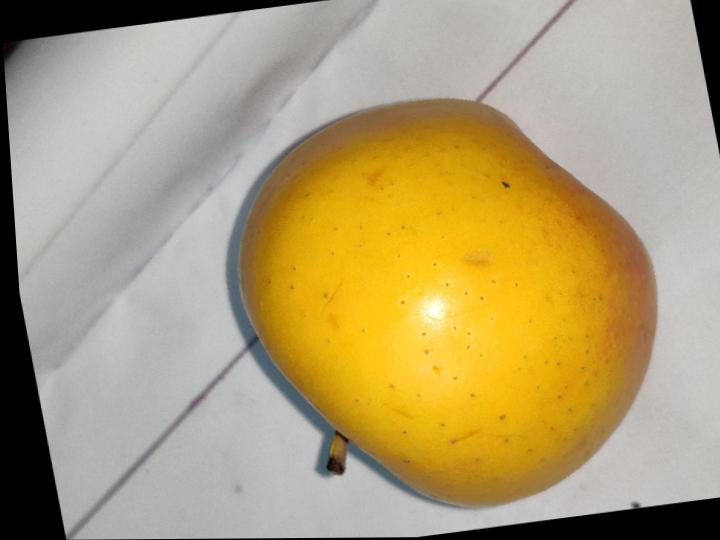apple: (239, 101, 656, 505)
